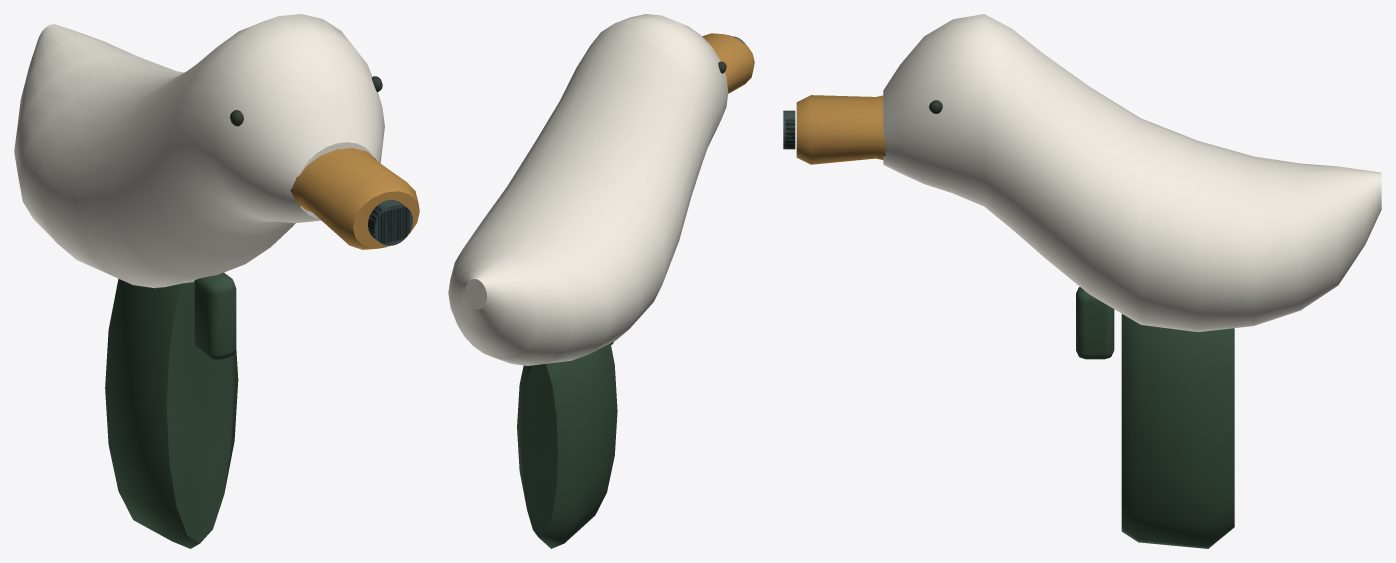
File: DuckWaterGun.fbx
3 views of the same model, side by side, from view 1: azimuth 30°, elevation 25°; view 2: azimuth 150°, elevation 25°; view 3: azimuth 270°, elevation 25° (orthographic). The views are drawn at different scales.
Parts seen in each view (by area): view 1: DuckWaterGun_Mesh; view 2: DuckWaterGun_Mesh; view 3: DuckWaterGun_Mesh.
Part boxes in pixels (left/top/right/bottom): DuckWaterGun_Mesh: left=14, top=14, right=419, bottom=548; DuckWaterGun_Mesh: left=448, top=14, right=754, bottom=548; DuckWaterGun_Mesh: left=783, top=14, right=1381, bottom=548.
Bounding box in the file's own units: 0.0944 × 0.242 × 0.2485.
Materials: 1 (1 with a texture image).
